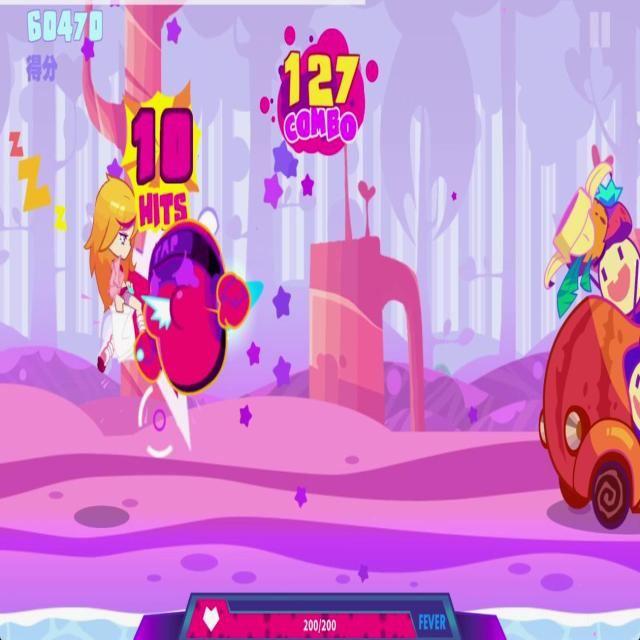cheboss: (533, 158, 640, 534)
tapboss: (132, 202, 266, 400)
